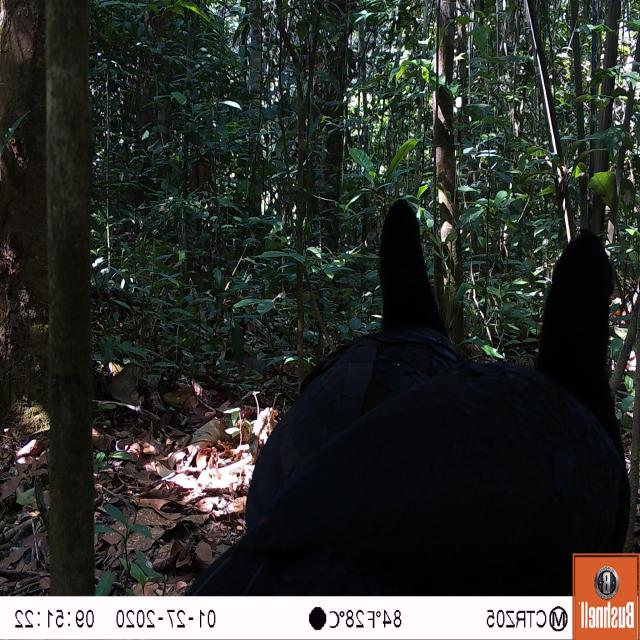Salvins Curassow: (195, 217, 635, 595), (239, 186, 470, 506)
